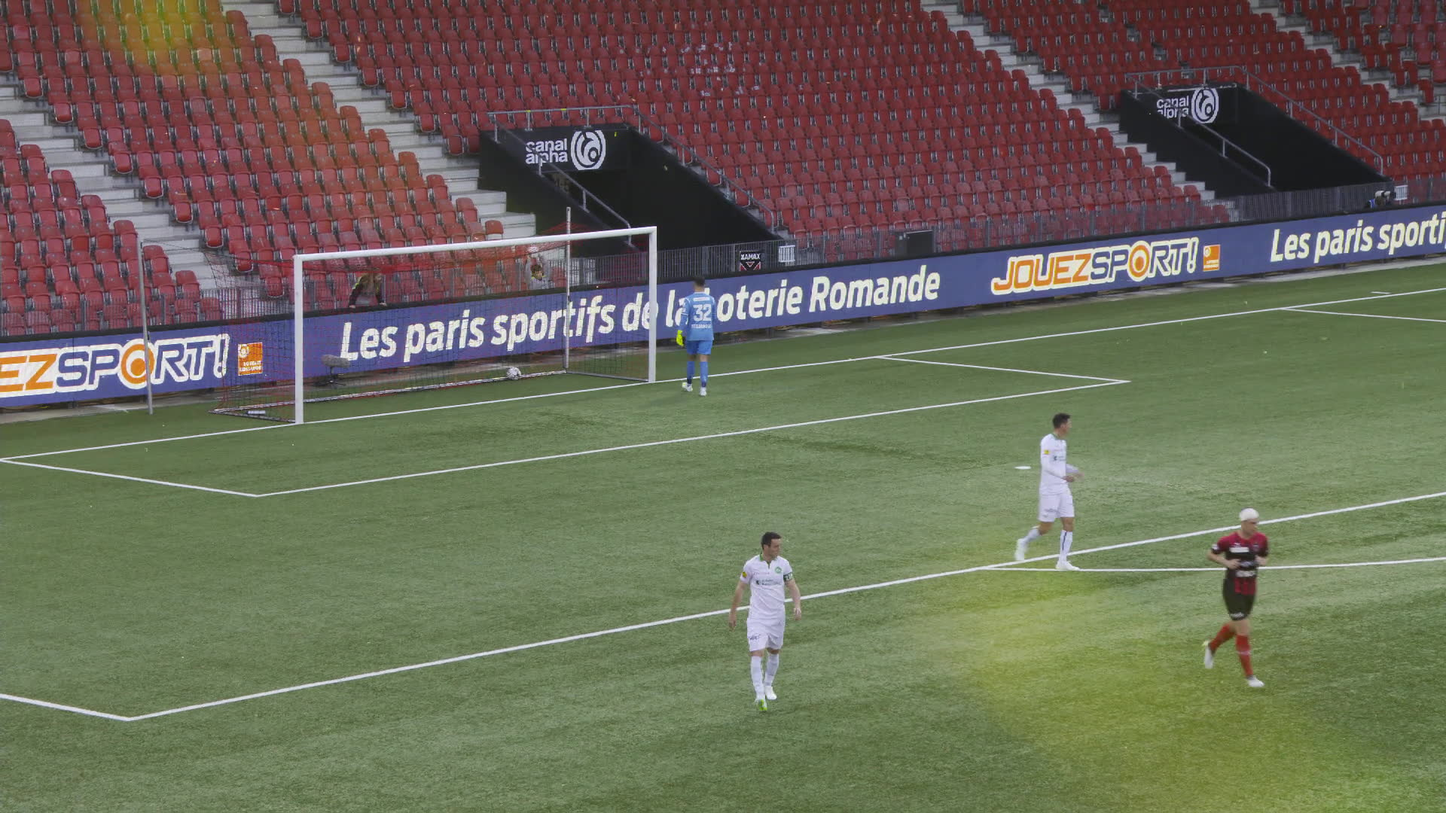ball: (506, 367, 518, 380)
player: (1194, 510, 1264, 689), (728, 530, 796, 710), (1016, 413, 1084, 569), (676, 276, 715, 397)
